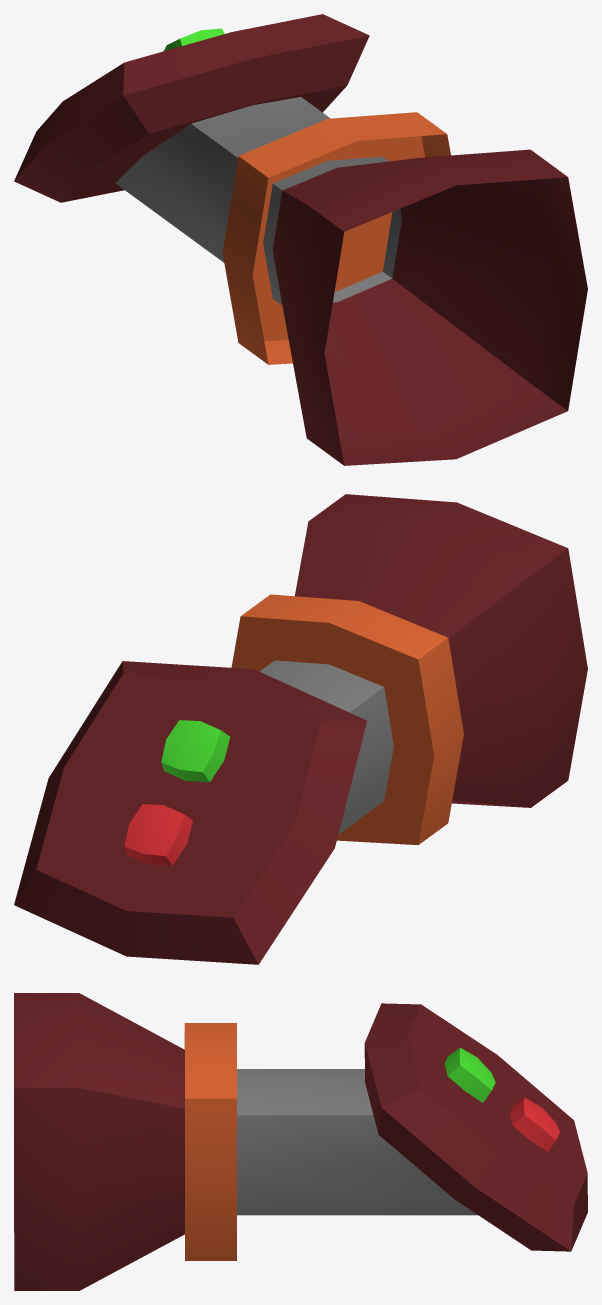
Rendered from Machine 07 Controller.FBX.
3 renders of one model, top to bottom at view 1: azimuth 30°, elevation 25°; view 2: azimuth 150°, elevation 25°; view 3: azimuth 270°, elevation 25°, orthographic. The views are drawn at different scales.
Parts seen in each view (by area): view 1: Machine 07 Controller; view 2: Machine 07 Controller; view 3: Machine 07 Controller.
Part boxes in pixels (left/top/right/bottom): Machine 07 Controller: left=14, top=14, right=587, bottom=465; Machine 07 Controller: left=14, top=494, right=587, bottom=964; Machine 07 Controller: left=14, top=993, right=587, bottom=1290.
Size of the model in its own units: 55.91 by 50.73 by 111.
1 material, 1 textured.
